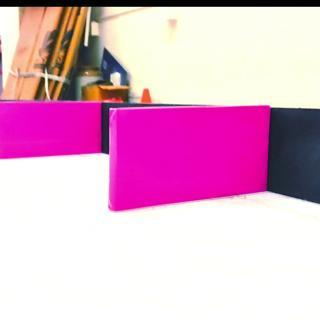xparking: (110, 107, 269, 204), (1, 101, 101, 153)
